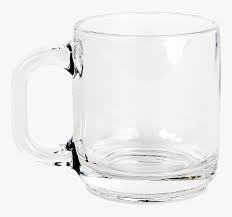cup: (12, 11, 221, 201)
